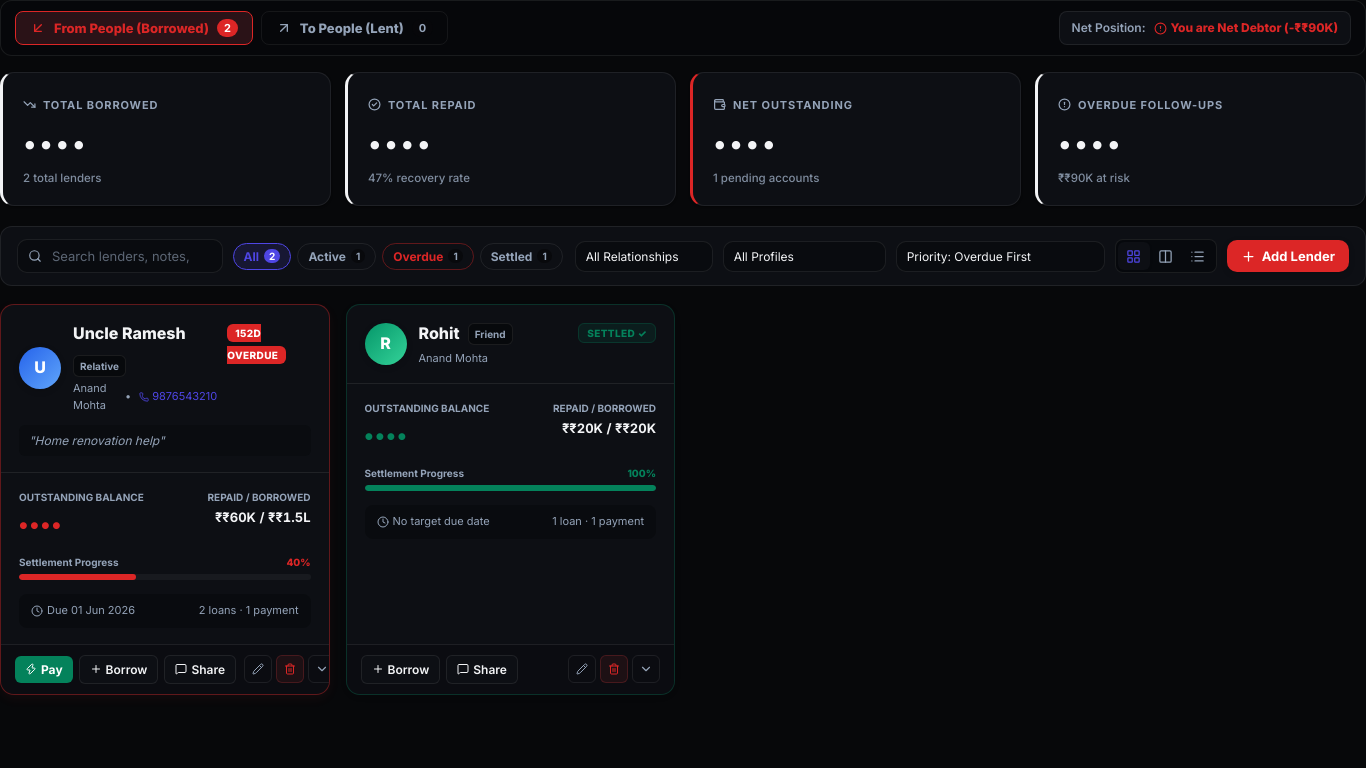
it: Informal Loans Redesign (From People & To People) › Screen Size & UX Improvements (Direction Switcher, Split View & Passbook) › switches to Split Master-Detail view mode for wide screens
Step 1. Click the button titled "Split Master-Detail View" → (1166, 256), box [1150,242,1182,270]
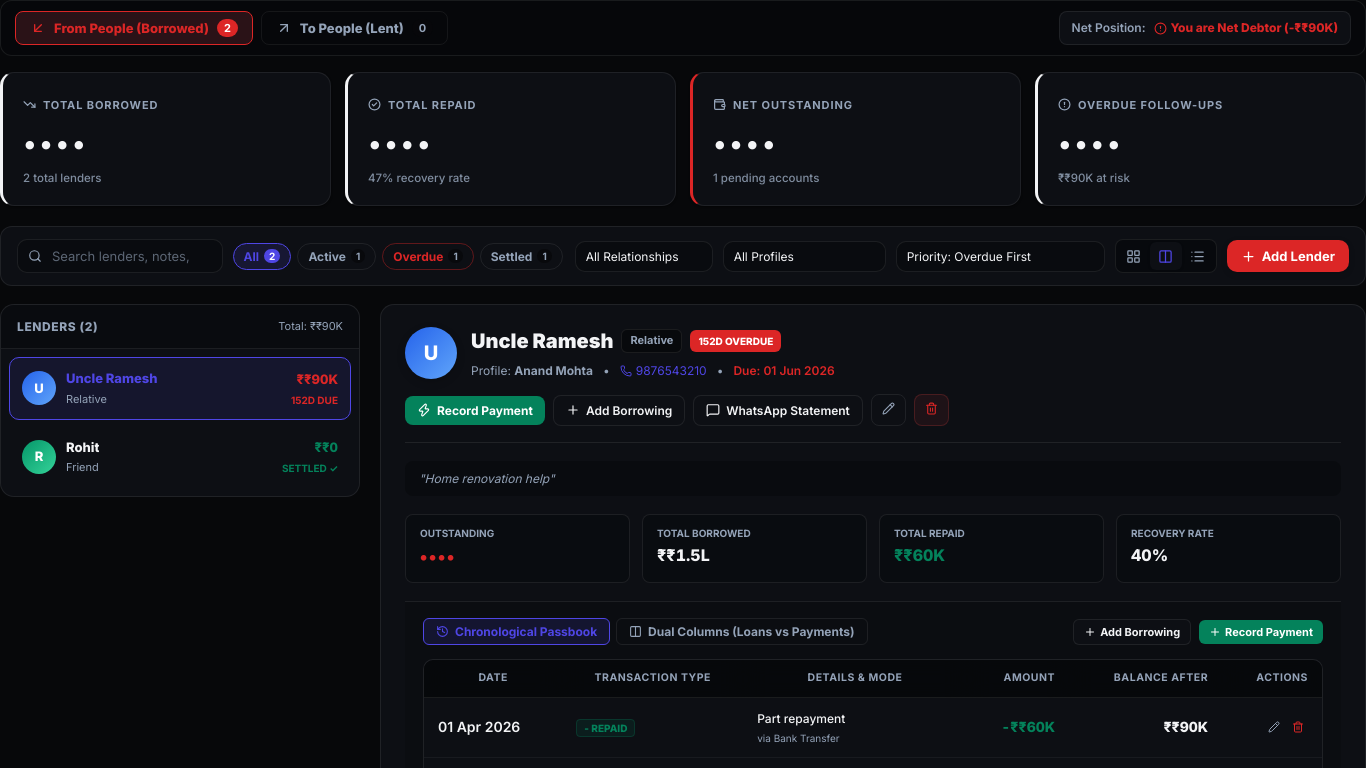
Expected: the text "Lenders (2)" is shown, [17,317,98,336]
Expected: the button "WhatsApp Statement" is shown, [693,395,863,426]
